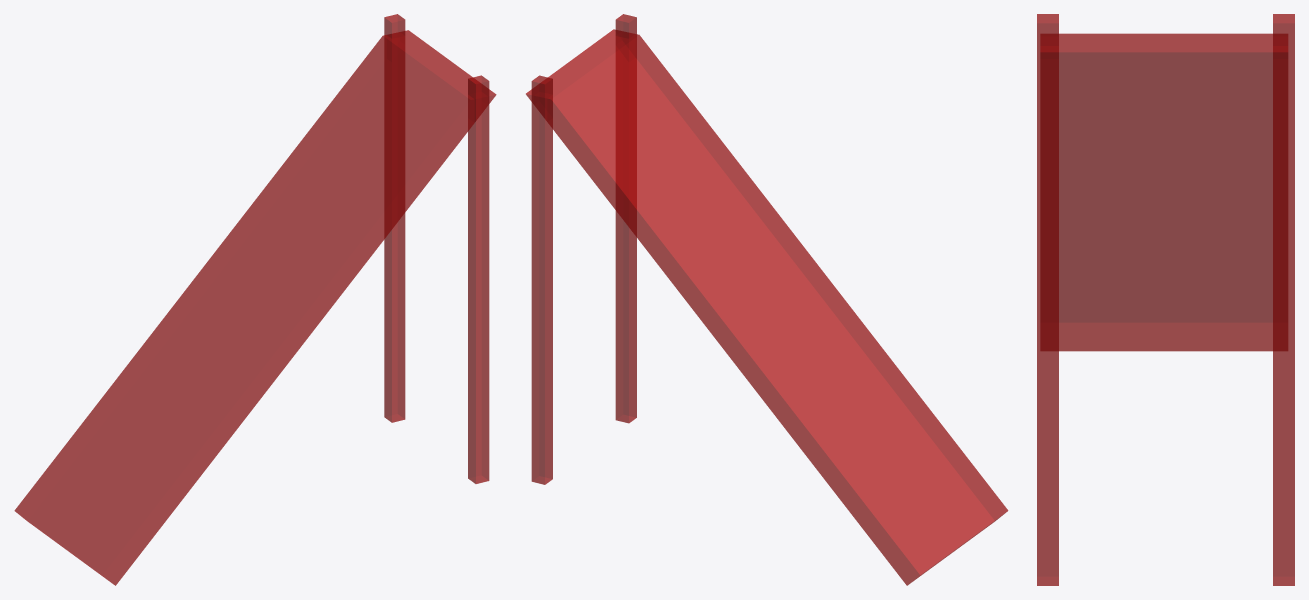
Rendered from SM_Bld_Stairs_Wood_Straight_01_Collision.fbx.
The picture shows the model from 3 angles, left to right: view 1: azimuth 30°, elevation 25°; view 2: azimuth 150°, elevation 25°; view 3: azimuth 270°, elevation 25°; orthographic projection. The views are drawn at different scales.
Parts seen in each view (by area): view 1: SM_Bld_Stairs_Wood_Straight_01_Collision; view 2: SM_Bld_Stairs_Wood_Straight_01_Collision; view 3: SM_Bld_Stairs_Wood_Straight_01_Collision.
Boxes of the visible parts, <box> form: SM_Bld_Stairs_Wood_Straight_01_Collision: <box>14,14,496,585</box>; SM_Bld_Stairs_Wood_Straight_01_Collision: <box>526,14,1008,585</box>; SM_Bld_Stairs_Wood_Straight_01_Collision: <box>1037,14,1294,585</box>.
Size of the model in its own units: 543 by 546 by 219.
